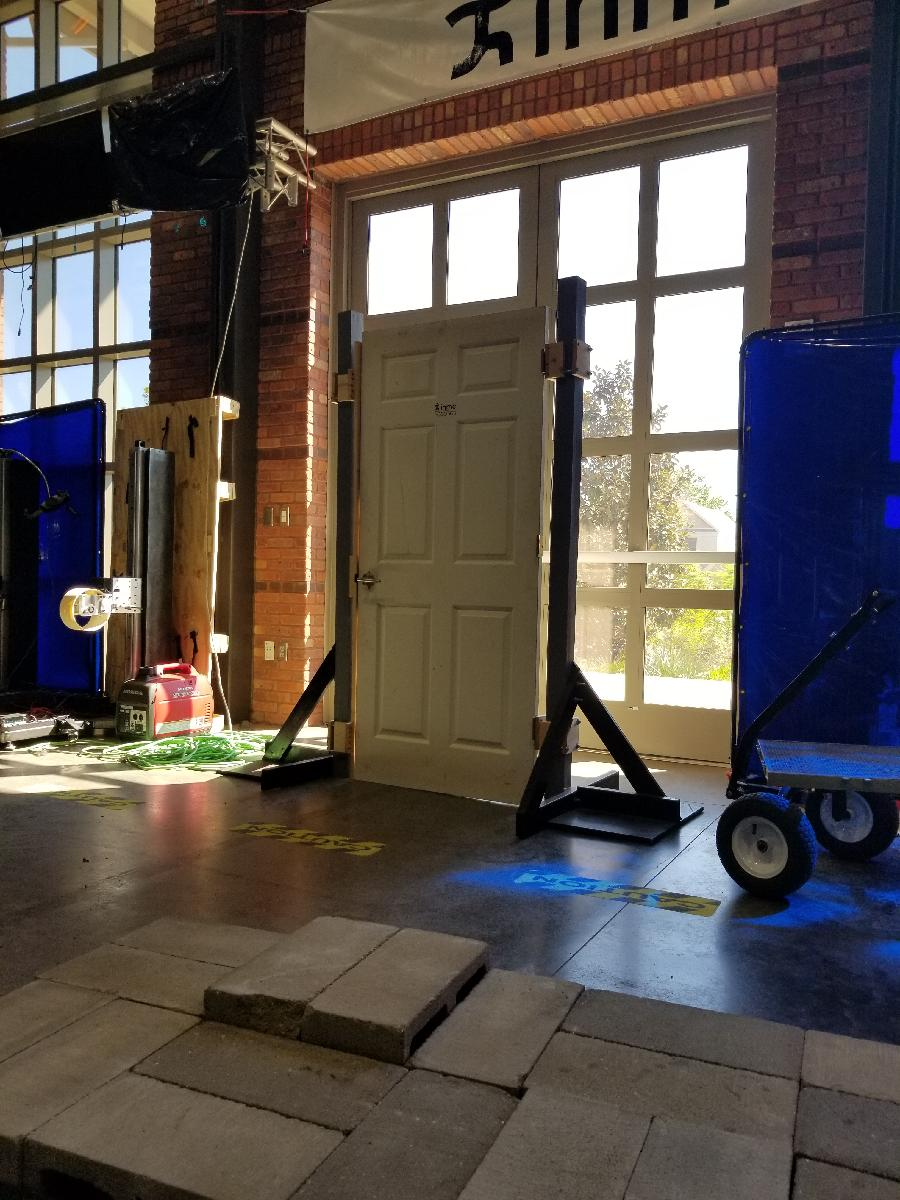door: (353, 299, 552, 823)
doorHandle: (358, 570, 380, 593)
